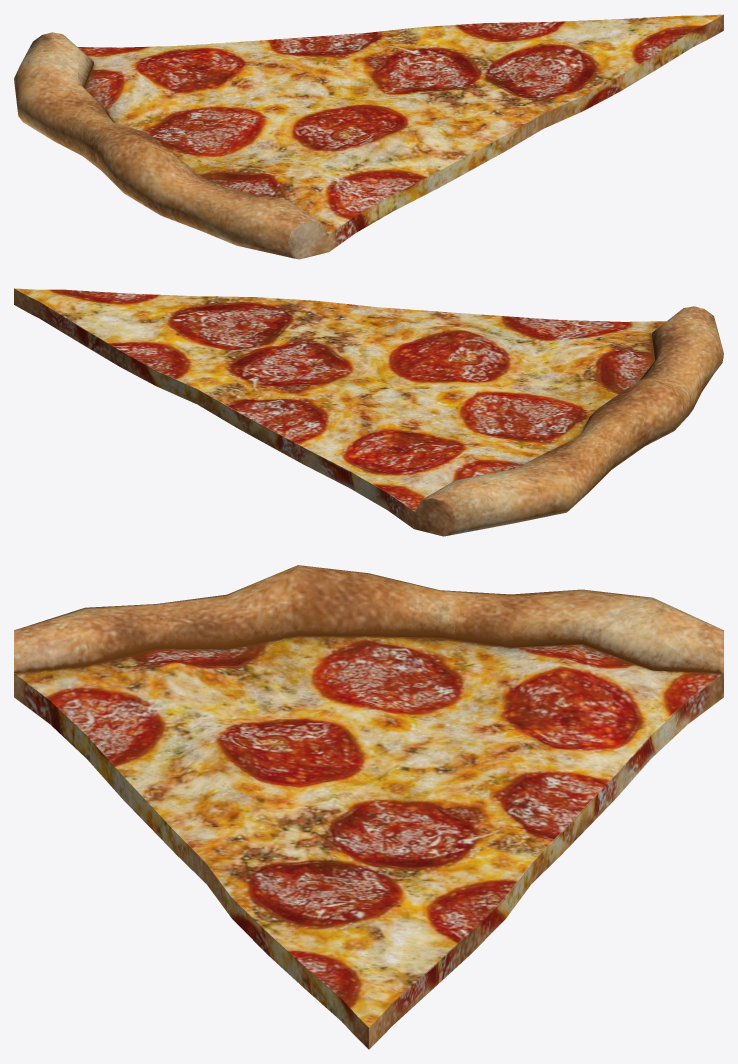
File: pizzara.glb
The picture shows the model from 3 angles, top to bottom: view 1: azimuth 30°, elevation 25°; view 2: azimuth 150°, elevation 25°; view 3: azimuth 270°, elevation 25°; orthographic projection. The views are drawn at different scales.
Parts seen in each view (by area): view 1: Pizza; view 2: Pizza; view 3: Pizza.
Part boxes in pixels (x1,y1,x2,y2): Pizza: [14, 14, 723, 259]; Pizza: [14, 288, 723, 536]; Pizza: [14, 565, 723, 1049].
Bounding box in the file's own units: 2.83 × 0.2335 × 2.
Materials: 1 (1 with a texture image).
